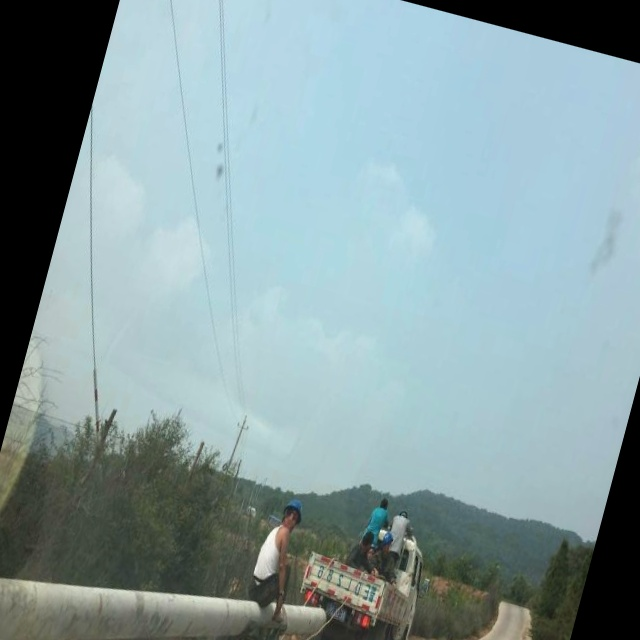Con_Casco: (281, 496, 307, 527)
